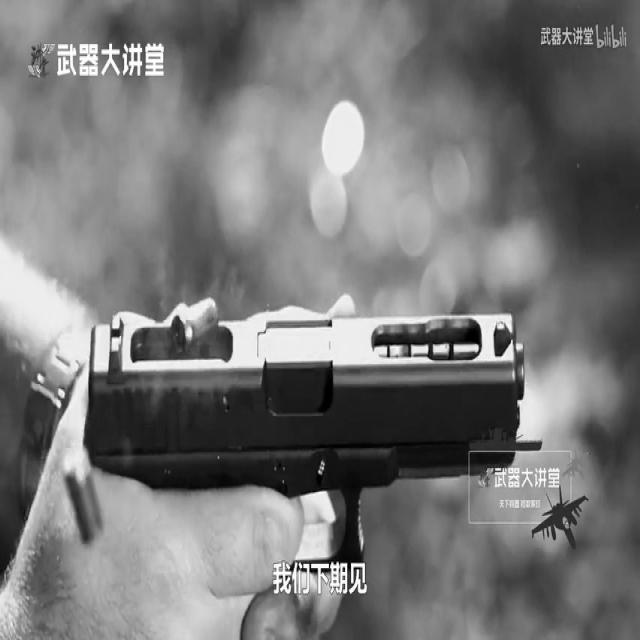Hand-Gun: (76, 168, 604, 640)
